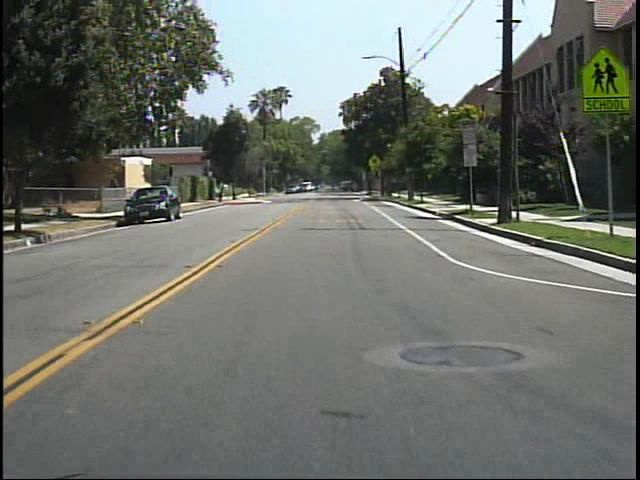person: (324, 178, 339, 196)
